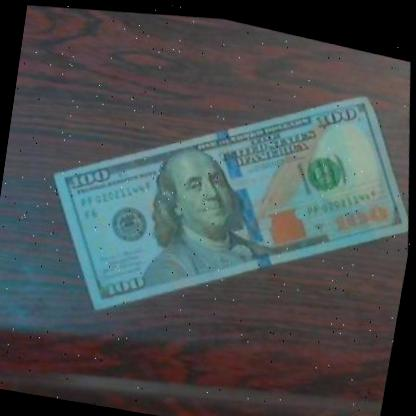one_hundred-front: (14, 10, 416, 377)
